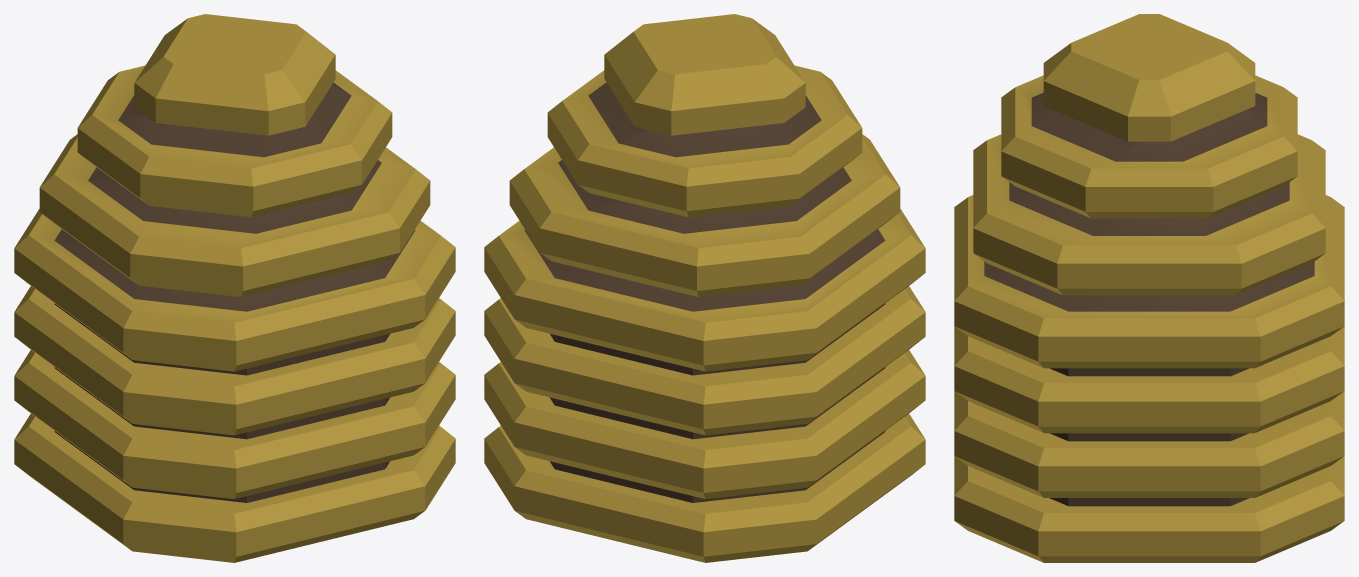
File: The Hive.fbx
3 renders of one model, left to right at view 1: azimuth 30°, elevation 25°; view 2: azimuth 150°, elevation 25°; view 3: azimuth 270°, elevation 25°, orthographic.
Parts seen in each view (by area): view 1: pCube1; view 2: pCube1; view 3: pCube1.
Boxes of the visible parts, x1,y1,x2,y2 form: pCube1: (14, 14, 455, 562); pCube1: (484, 14, 925, 562); pCube1: (954, 14, 1344, 562).
Size of the model in its own units: 3.54 by 4.4 by 3.54.
